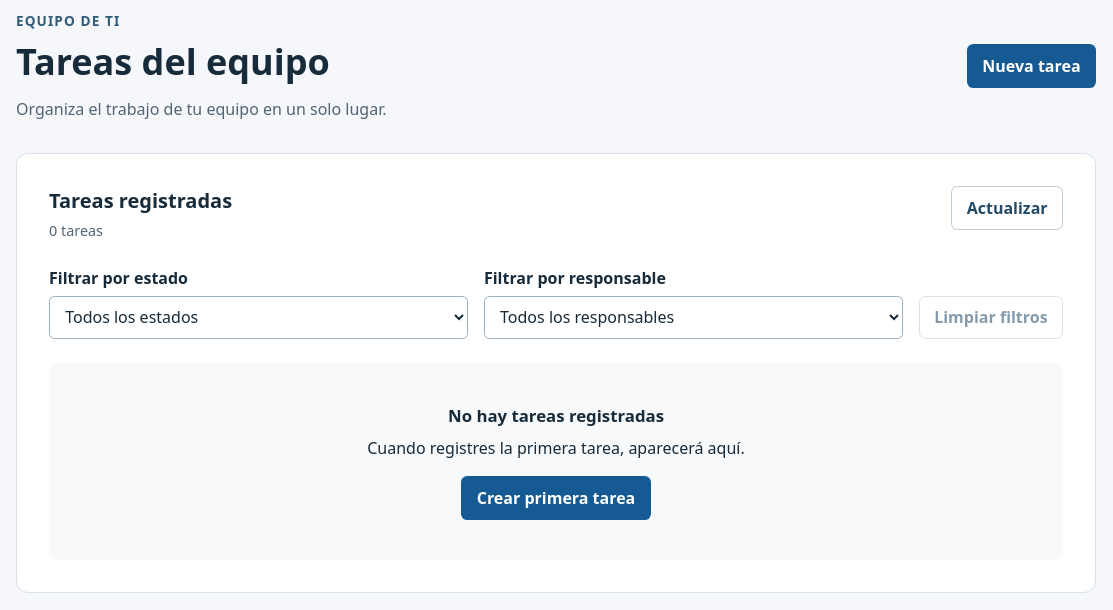
Filtros de estado y responsable › mantiene el mensaje de base vacía aunque haya un filtro de estado seleccionado
This screenshot has width=1113, height=610.
Expected: the heading "No hay tareas registradas" is shown, [448,404,664,427]
Select "Pendiente" in the dropdown labelled "Filtrar por estado" at [258, 317], box [49,296,468,339]
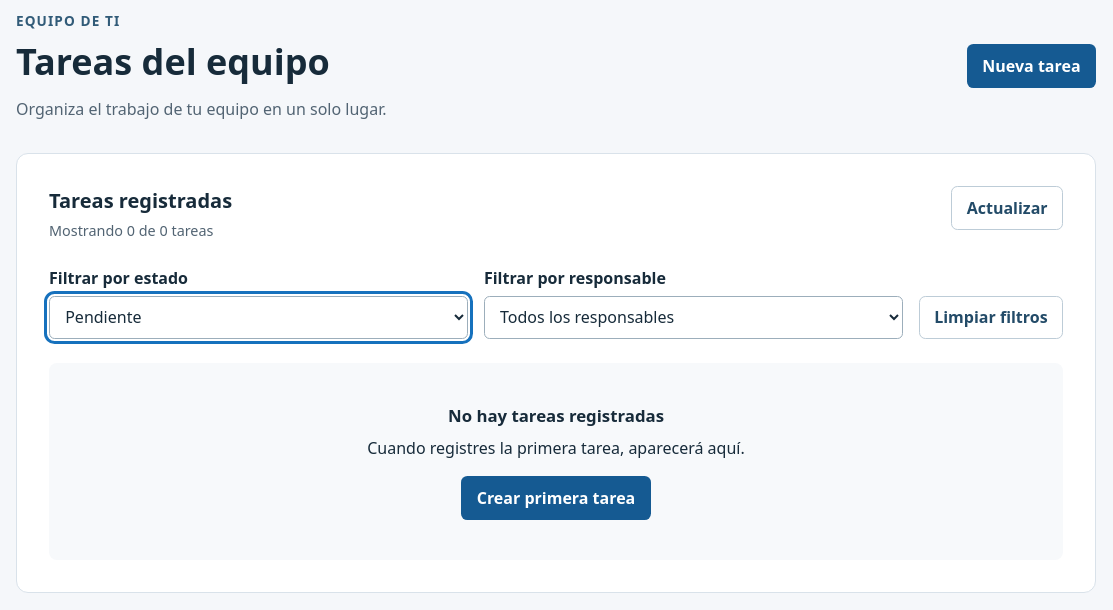
Expected: the heading "No hay tareas registradas" is shown, [448,404,664,427]
Expected: the message reads "Mostrando 0 de 0 tareas", [49,220,232,242]
